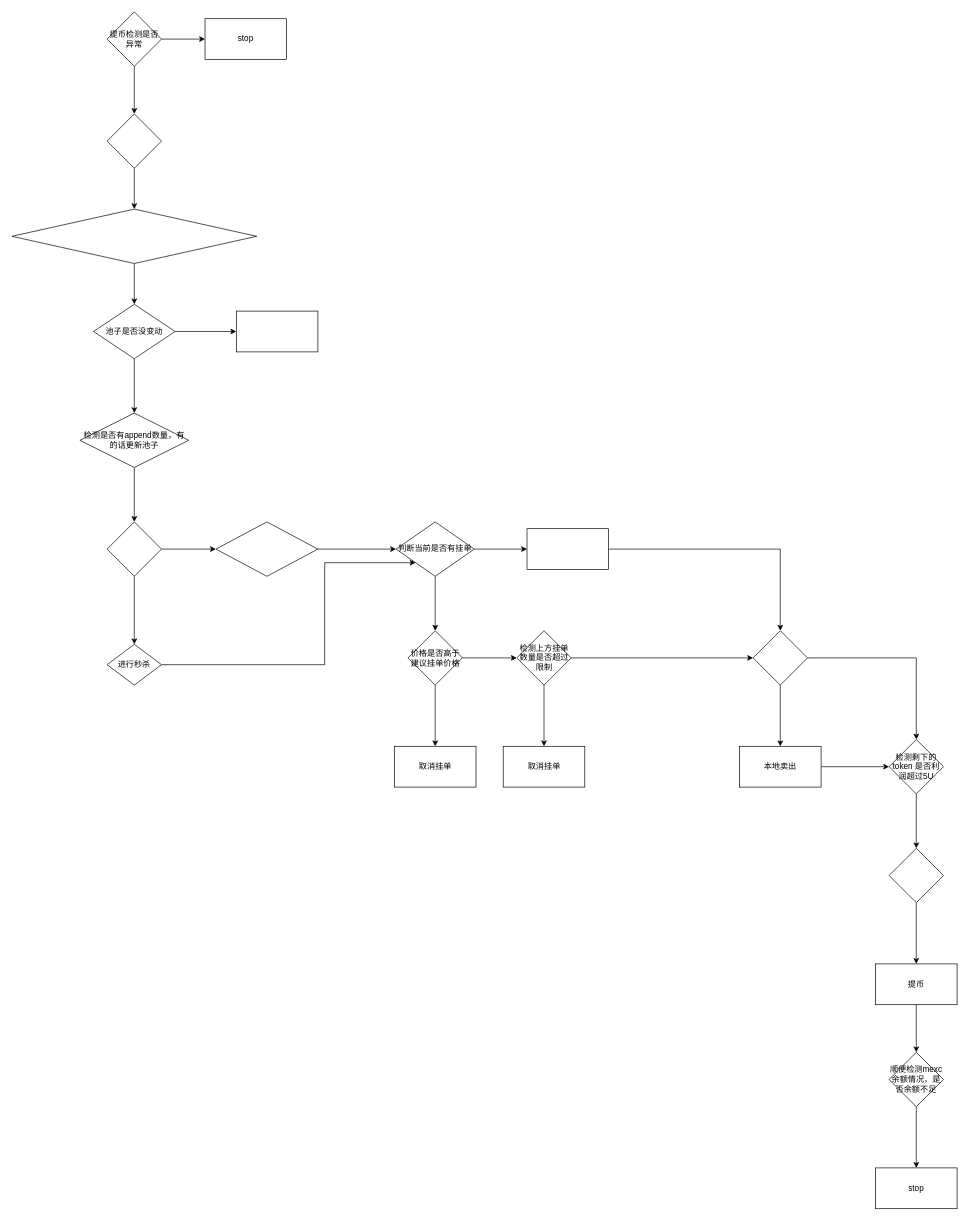
Image size: 969x1221. Some labels were removed from this diagram. The shapes that lost their labels are listed below. From the top down, each one's centre as x and y in pixels, then its label:
pixel 134 140: 获取book信息
pixel 134 236: 获取web3balance，得到池子信息，初始化挂单数量
pixel 277 331: 如果有变动到循环尾巴
pixel 134 548: 计算是否有利润，计算数量和价格
pixel 266 548: 结合bollup，挂单率，计算方式进行计算建议挂单价格
pixel 567 549: 按建议挂单价格进行挂单
pixel 780 657: 检测余额 如果余额大于10，大于web3价格？
pixel 916 875: bid价格是否小于web3
